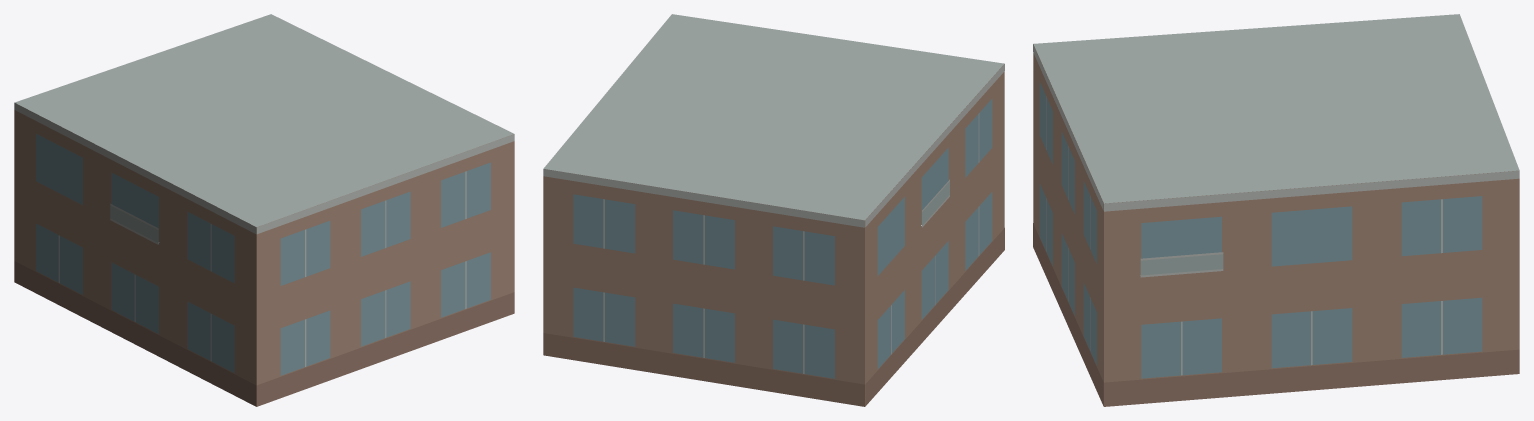
File: survey-upis-32838160.glb
3 renders of one model, left to right at view 1: azimuth 30°, elevation 25°; view 2: azimuth 150°, elevation 25°; view 3: azimuth 270°, elevation 25°, orthographic. The views are drawn at different scales.
Visible parts, largest first — view 1: survey-upis-32838160.tmp; view 2: survey-upis-32838160.tmp; view 3: survey-upis-32838160.tmp.
Boxes of the visible parts, left/top/right/bottom form: survey-upis-32838160.tmp: left=14, top=14, right=514, bottom=406; survey-upis-32838160.tmp: left=543, top=14, right=1004, bottom=406; survey-upis-32838160.tmp: left=1033, top=14, right=1519, bottom=406.
Size of the model in its own units: 12.2 by 6.1 by 13.24.
